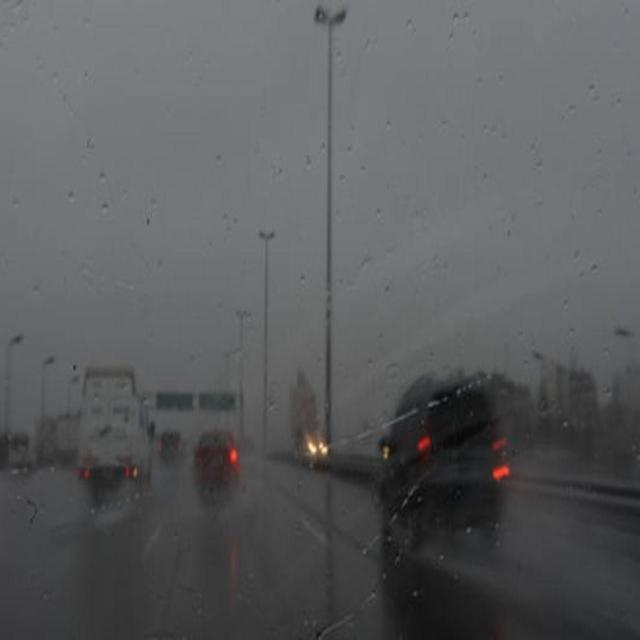Car: (374, 379, 511, 556), (186, 425, 242, 495)
Truck: (76, 363, 158, 498)
